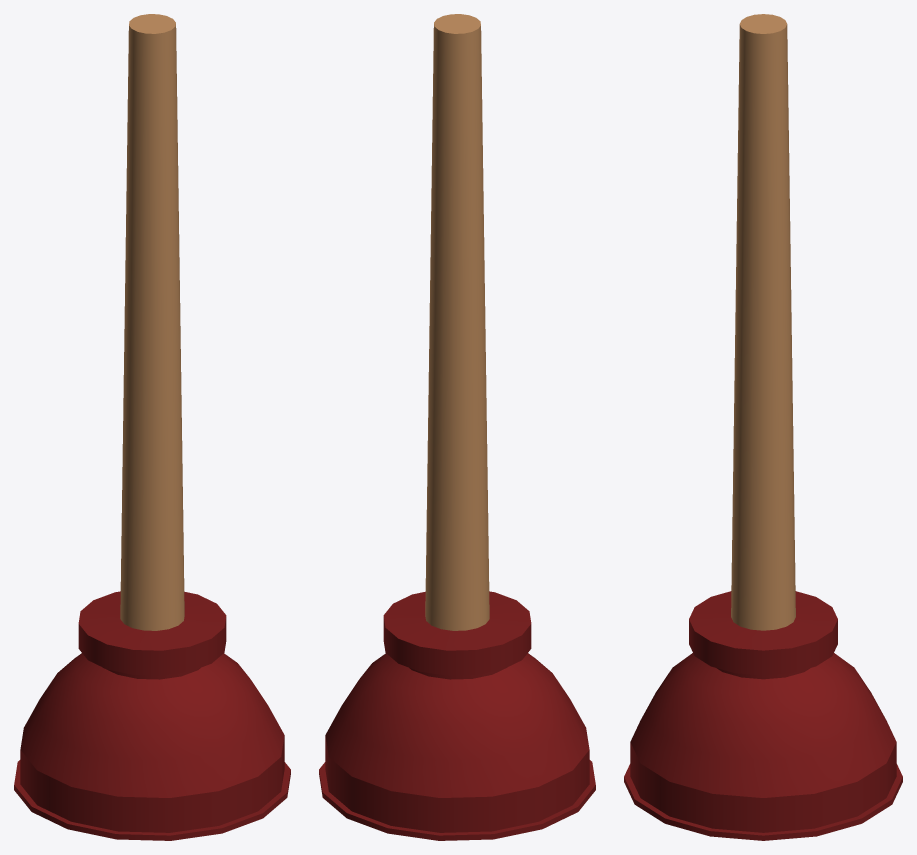
File: poempel.gltf
3 views of the same model, side by side, from view 1: azimuth 30°, elevation 25°; view 2: azimuth 150°, elevation 25°; view 3: azimuth 270°, elevation 25° (orthographic).
Visible parts, largest first — view 1: Cylinder.015; view 2: Cylinder.015; view 3: Cylinder.015.
Part boxes in pixels (x1=…): Cylinder.015: x1=14, y1=14, x2=290, y2=840; Cylinder.015: x1=319, y1=14, x2=595, y2=840; Cylinder.015: x1=624, y1=14, x2=902, y2=840.
Bounding box in the file's own units: 0.8321 × 2.5 × 0.8321.
